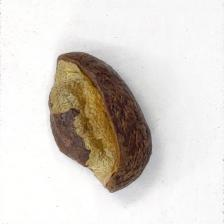NG: (46, 55, 121, 192)
